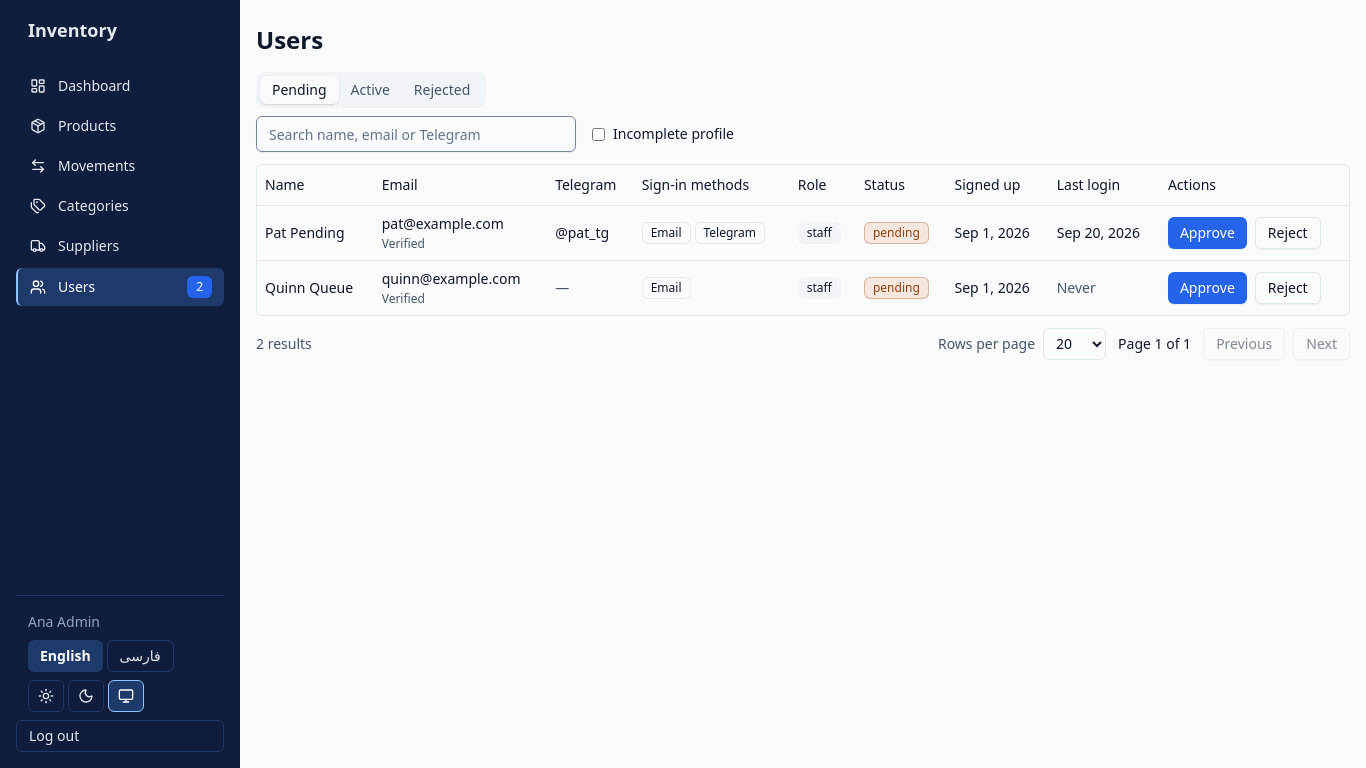
Test: UsersPage tabs and table › switches between Pending, Active and Rejected
Click the tab "Active".
click(370, 90)  # box [338, 76, 402, 104]
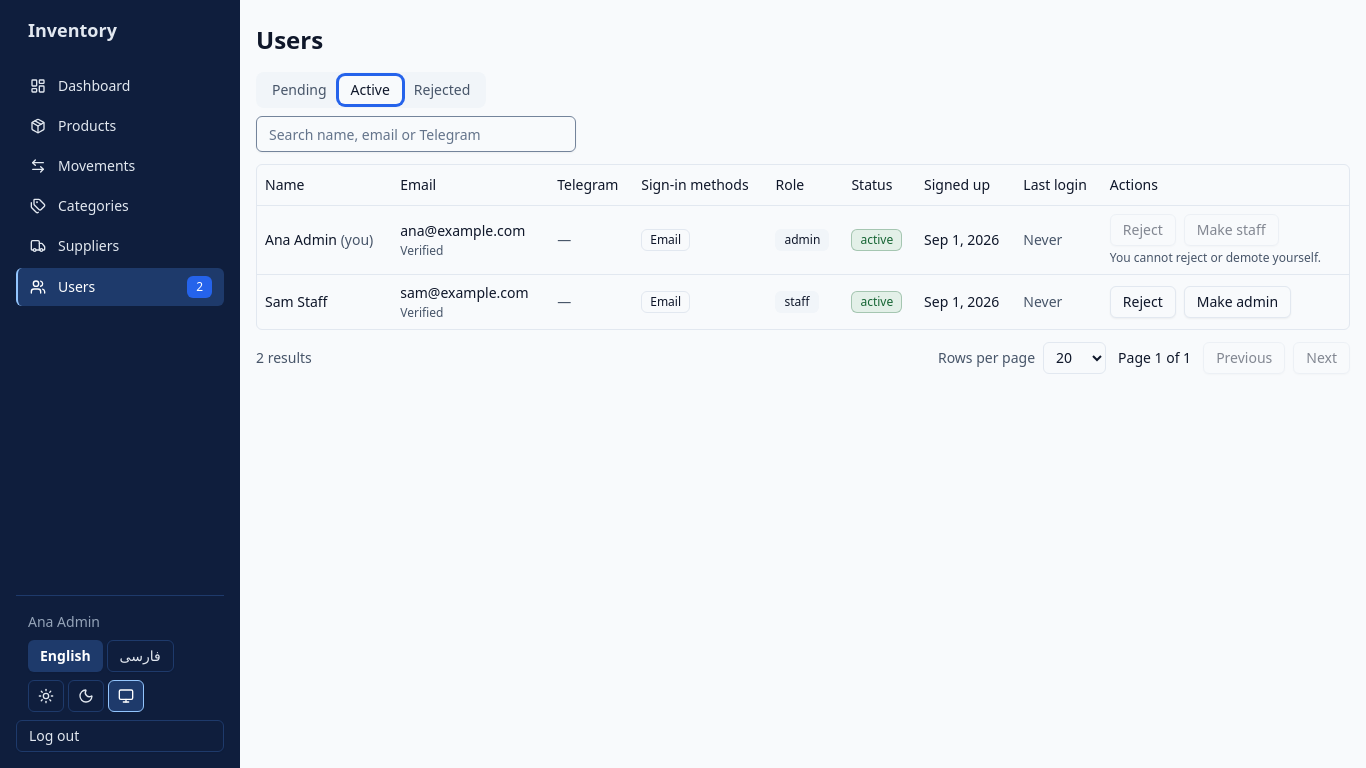
Now the row "Sam Staff" is shown, box [257, 274, 1349, 328]
Now the button "Pat Pending" is gone
Click the tab "Rejected".
click(442, 90)  # box [402, 76, 482, 104]
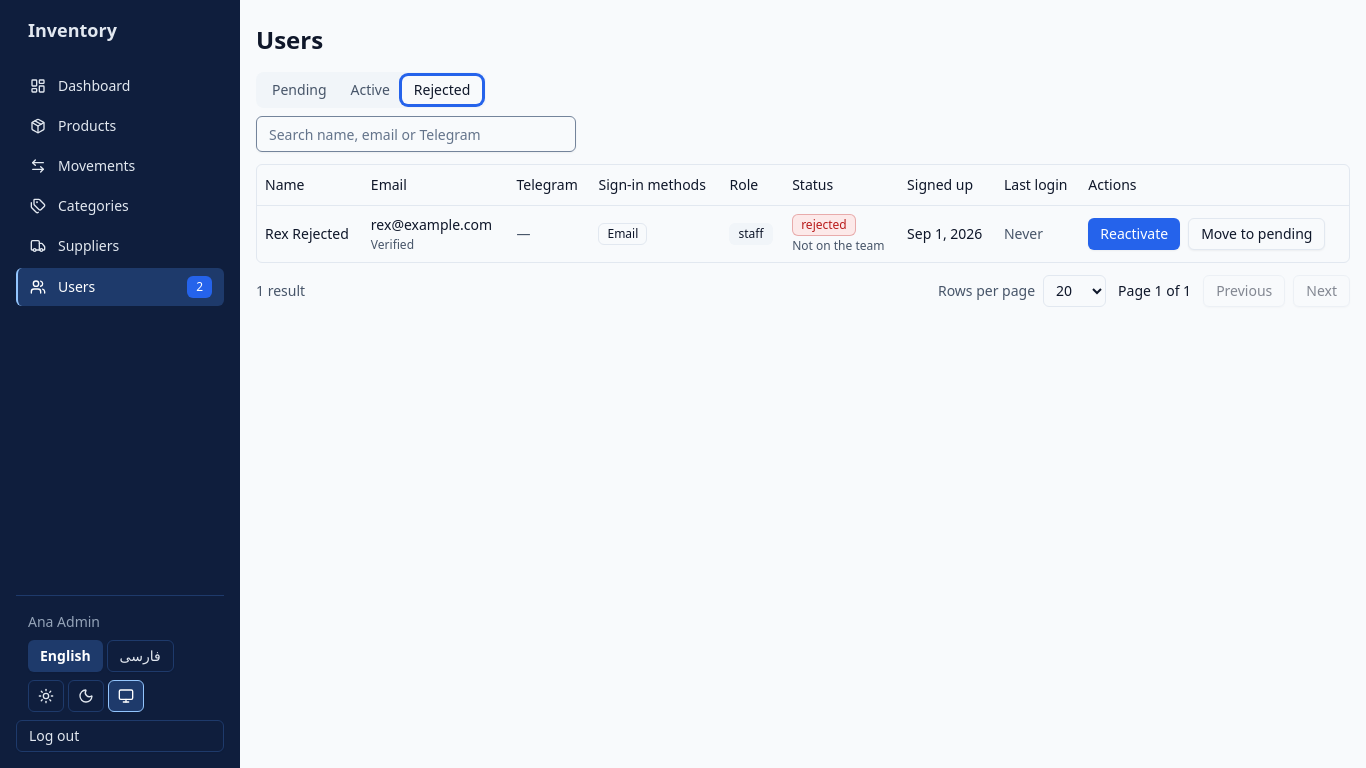
Now the row "Rex Rejected" is shown, box [257, 205, 1349, 262]
